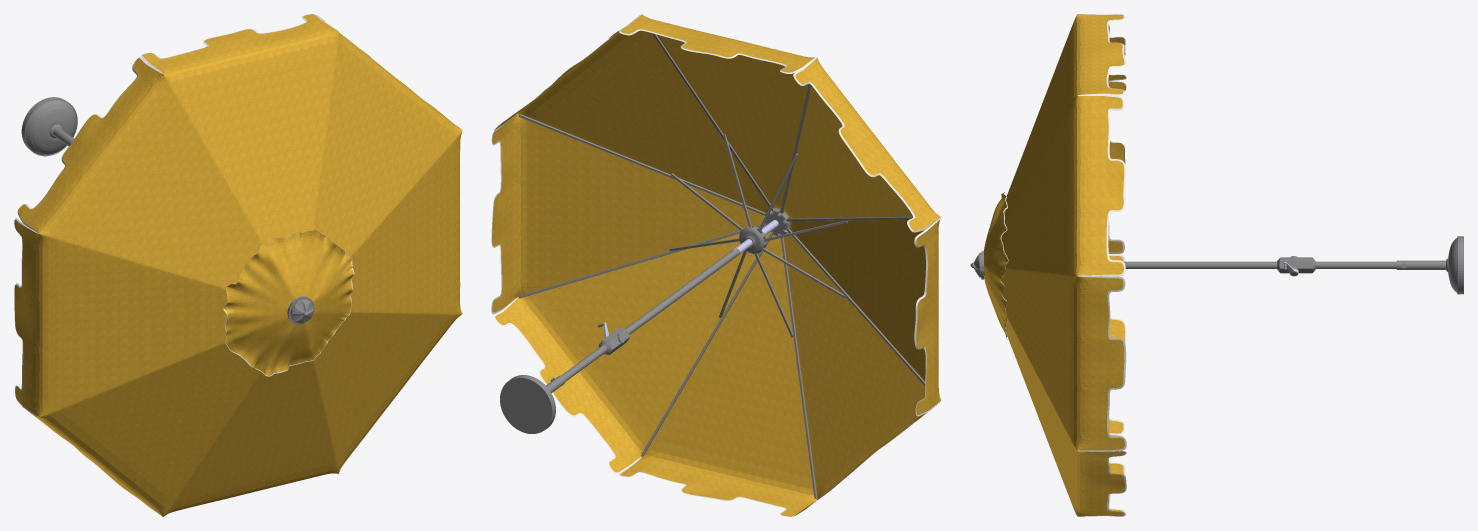
File: umbrella.glb
3 renders of one model, left to right at view 1: azimuth 30°, elevation 25°; view 2: azimuth 150°, elevation 25°; view 3: azimuth 270°, elevation 25°, orthographic. The views are drawn at different scales.
Parts seen in each view (by area): view 1: Brayden Studio Umbrella N160725; view 2: Brayden Studio Umbrella N160725; view 3: Brayden Studio Umbrella N160725.
Boxes of the visible parts, box(x1,y1,x2,y2) form: Brayden Studio Umbrella N160725: box(14, 14, 462, 516); Brayden Studio Umbrella N160725: box(491, 14, 941, 516); Brayden Studio Umbrella N160725: box(970, 14, 1463, 516).
Bounding box in the file's own units: 2.39 × 2.38 × 2.52.
Materials: 4 (1 with a texture image).
